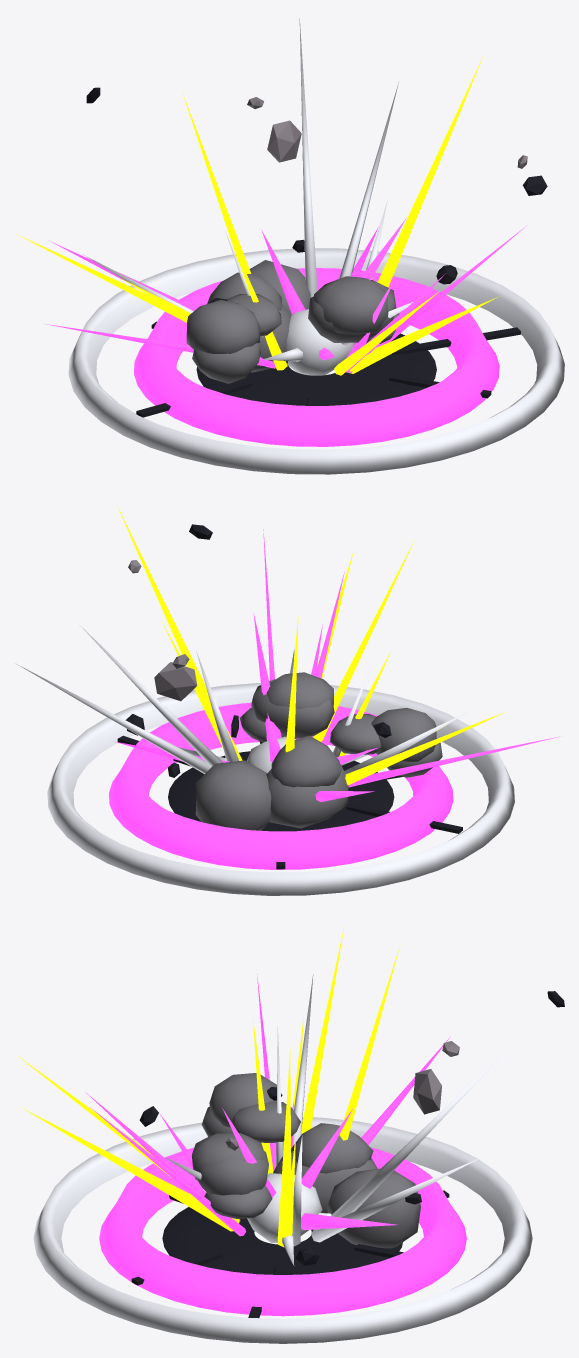
The model's file is Blaster_Impact.fbx.
The picture shows the model from 3 angles, top to bottom: view 1: azimuth 30°, elevation 25°; view 2: azimuth 150°, elevation 25°; view 3: azimuth 270°, elevation 25°; orthographic projection. The views are drawn at different scales.
Parts seen in each view (by area): view 1: Imp_Onda_pis, Imp_Humo_pis, Imp_Chispas_pis, Imp_Crater_pis, Imp_Flash_pis, Imp_Escombros_pis; view 2: Imp_Onda_pis, Imp_Humo_pis, Imp_Chispas_pis, Imp_Crater_pis, Imp_Escombros_pis, Imp_Flash_pis; view 3: Imp_Onda_pis, Imp_Humo_pis, Imp_Chispas_pis, Imp_Crater_pis, Imp_Flash_pis, Imp_Escombros_pis.
Part boxes in pixels (<box>): Imp_Onda_pis: <box>68,248,564,474</box>; Imp_Humo_pis: <box>186,260,399,383</box>; Imp_Chispas_pis: <box>16,18,526,375</box>; Imp_Crater_pis: <box>136,321,520,417</box>; Imp_Flash_pis: <box>261,218,419,375</box>; Imp_Escombros_pis: <box>86,87,547,303</box>; Imp_Onda_pis: <box>47,683,514,895</box>; Imp_Humo_pis: <box>195,672,442,830</box>; Imp_Chispas_pis: <box>17,507,559,801</box>; Imp_Crater_pis: <box>117,735,462,869</box>; Imp_Escombros_pis: <box>126,524,391,777</box>; Imp_Flash_pis: <box>113,613,378,773</box>; Imp_Onda_pis: <box>33,1117,532,1343</box>; Imp_Humo_pis: <box>191,1073,420,1248</box>; Imp_Chispas_pis: <box>17,926,515,1247</box>; Imp_Crater_pis: <box>131,1190,449,1317</box>; Imp_Flash_pis: <box>164,1102,397,1265</box>; Imp_Escombros_pis: <box>139,991,564,1265</box>.
Size of the model in its own units: 26.56 by 14.03 by 25.07.
